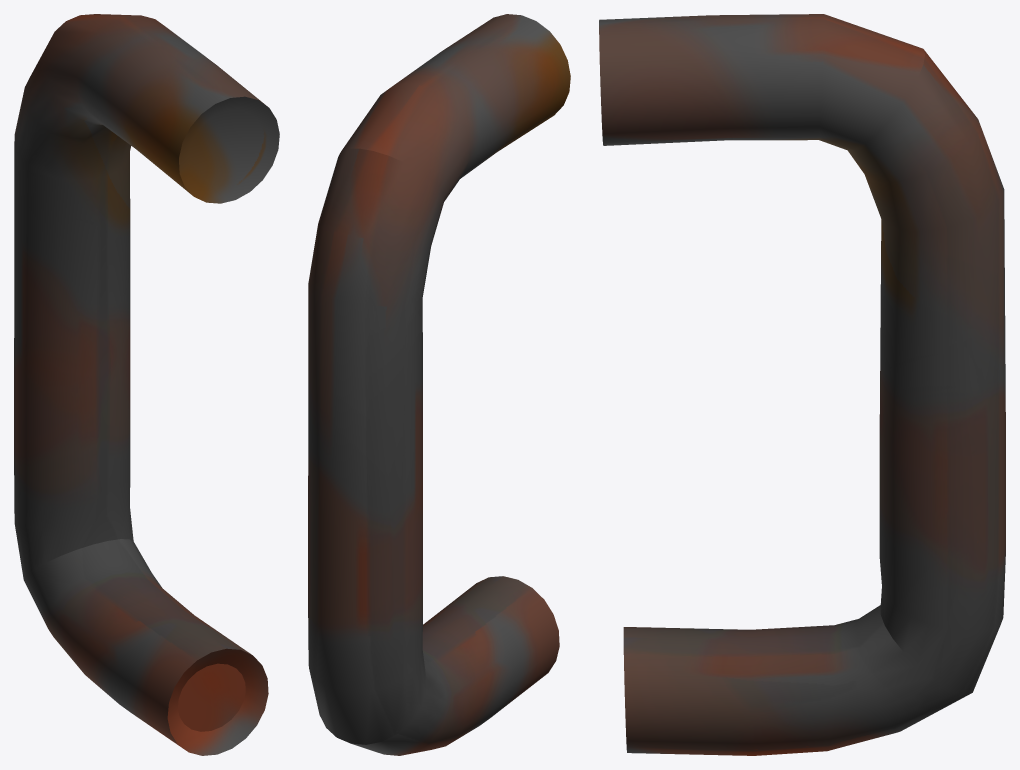
The model's file is Pipe 5.glb.
The picture shows the model from 3 angles, left to right: view 1: azimuth 30°, elevation 25°; view 2: azimuth 150°, elevation 25°; view 3: azimuth 270°, elevation 25°; orthographic projection. The views are drawn at different scales.
Visible parts, largest first — view 1: Cylinder; view 2: Cylinder; view 3: Cylinder.
Part boxes in pixels (bbox=[...]): Cylinder: bbox=[14, 14, 279, 755]; Cylinder: bbox=[308, 14, 570, 755]; Cylinder: bbox=[599, 14, 1005, 755].
Bounding box in the file's own units: 0.155 × 0.9507 × 0.4794.
Materials: 1 (1 with a texture image).
